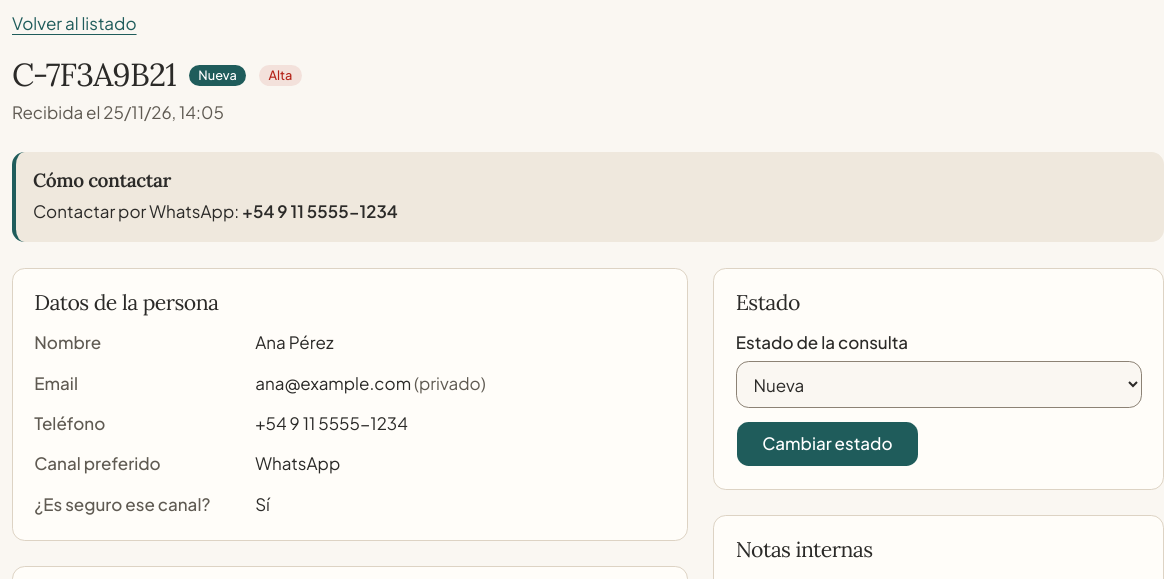
StatusForm › has a labelled select with the current status and posts the id
Select "Cerrada" in the dropdown labelled "Estado de la consulta" at [939, 385], box [736, 361, 1142, 408]
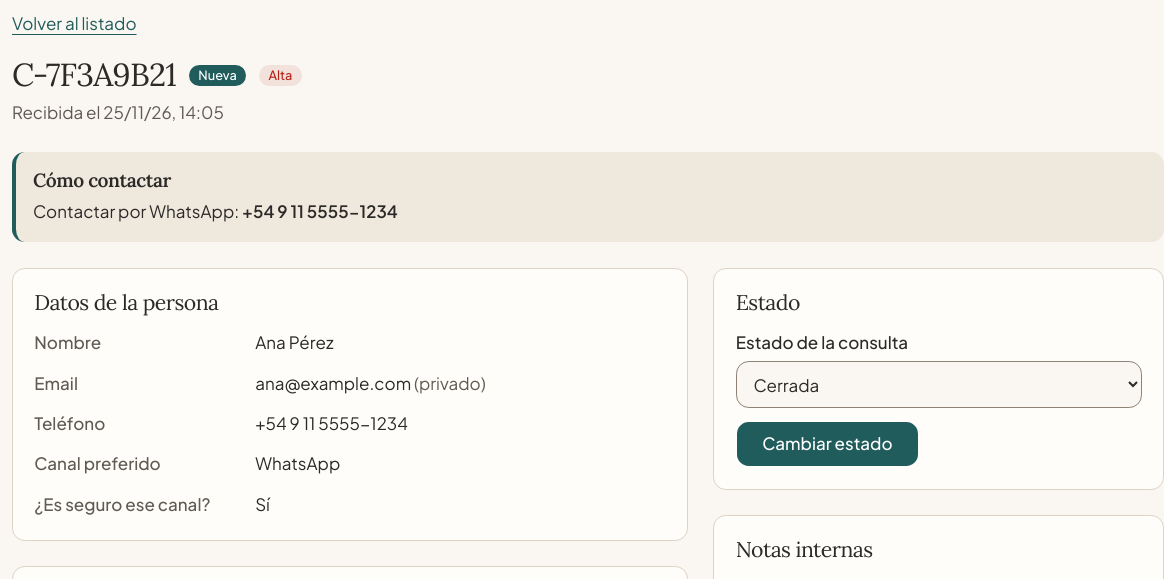
Click the button "Cambiar estado".
click(827, 444)  # box [736, 421, 919, 468]
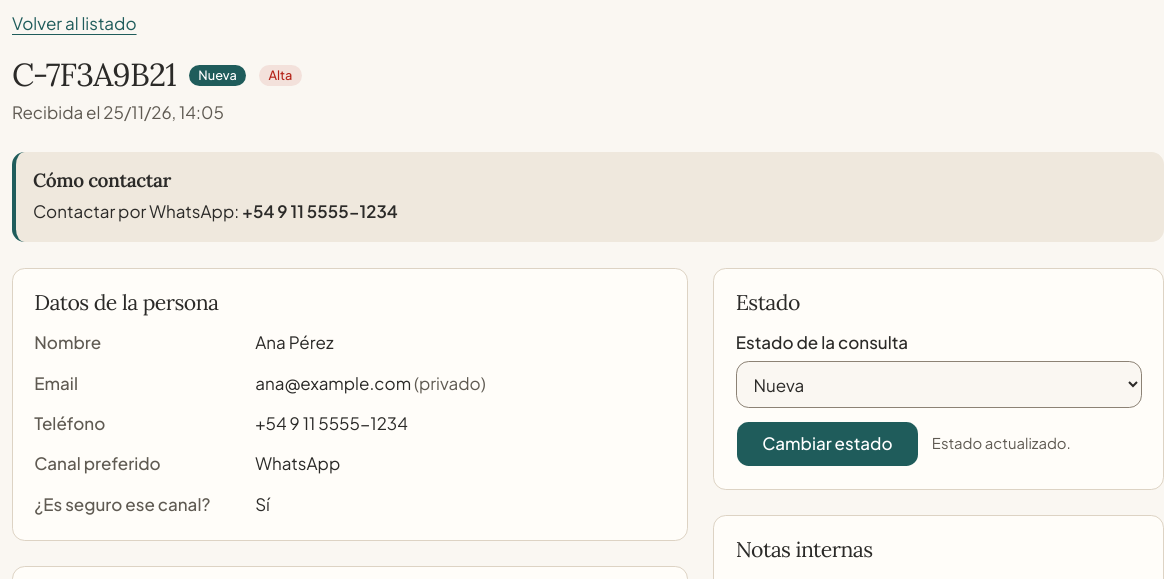
Expected: the message reads "Estado actualizado.", [932, 434, 1071, 452]
